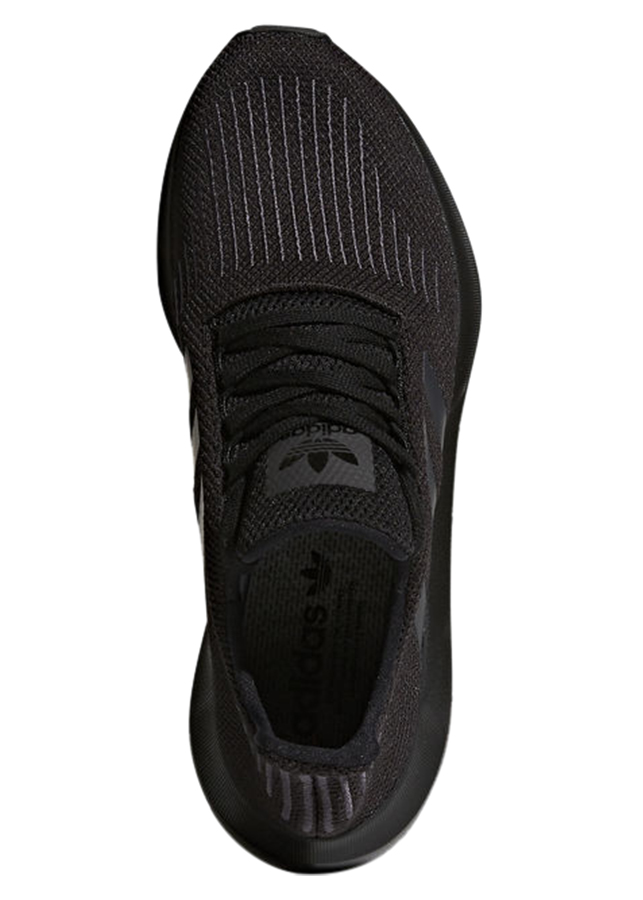Adidas: (253, 408, 386, 505)
